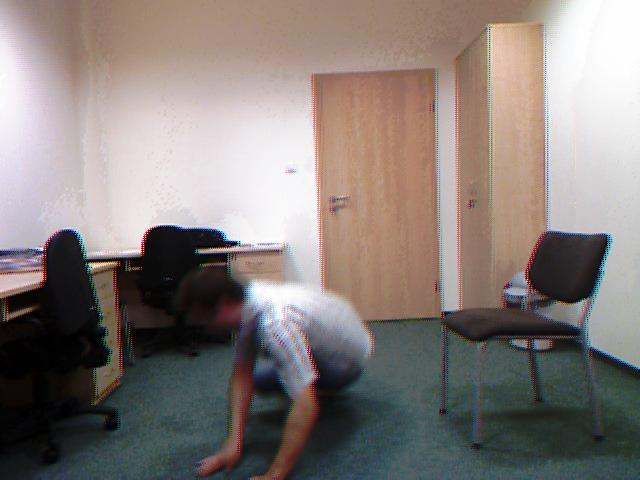fall: (176, 267, 371, 480)
